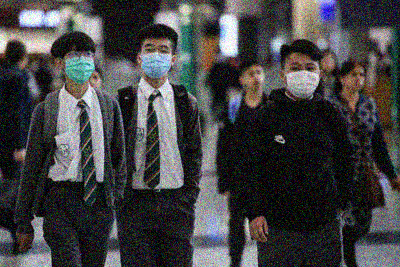with_mask: (284, 61, 320, 100), (61, 47, 96, 84), (140, 42, 172, 80)
without_mask: (244, 69, 265, 90), (345, 69, 365, 91)
